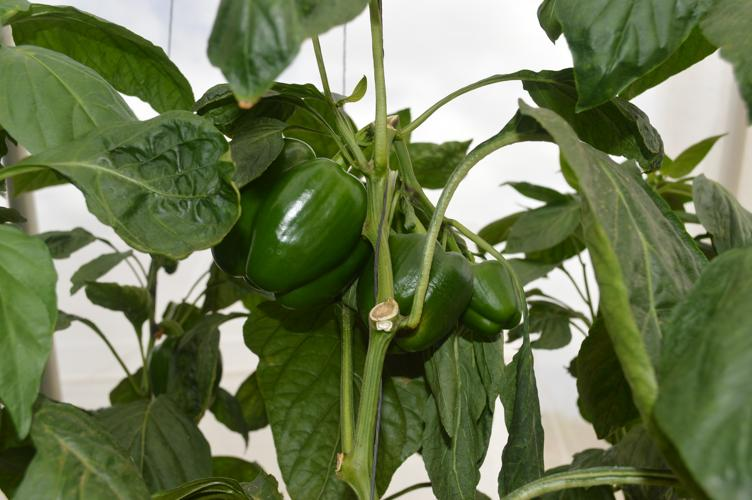BellPepper: (247, 156, 372, 315), (209, 135, 313, 275), (357, 235, 473, 357), (458, 260, 523, 340)
